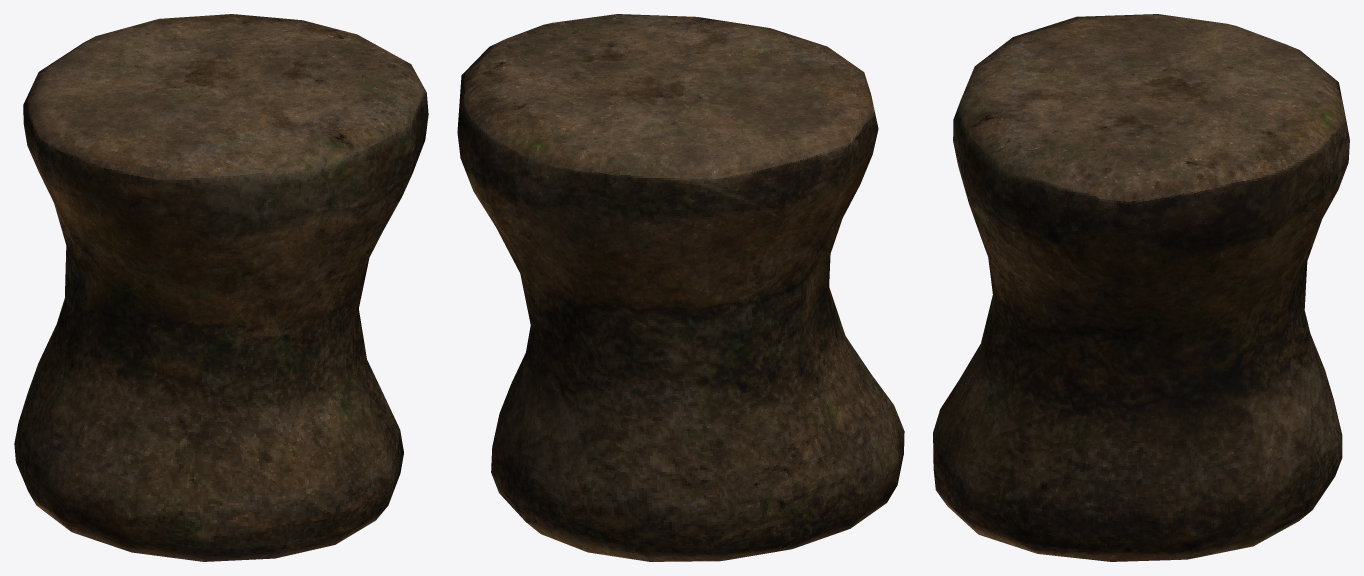
Rendered from SM_TI_Column_4m_1.gltf.
3 renders of one model, left to right at view 1: azimuth 30°, elevation 25°; view 2: azimuth 150°, elevation 25°; view 3: azimuth 270°, elevation 25°, orthographic. The views are drawn at different scales.
Parts seen in each view (by area): view 1: SM_TI_Column_4m_1; view 2: SM_TI_Column_4m_1; view 3: SM_TI_Column_4m_1.
Boxes of the visible parts, x1,y1,x2,y2 form: SM_TI_Column_4m_1: (14, 14, 428, 561); SM_TI_Column_4m_1: (457, 14, 904, 561); SM_TI_Column_4m_1: (933, 14, 1349, 561).
Bounding box in the file's own units: 3.96 × 4.05 × 3.73.
1 material, 1 textured.
